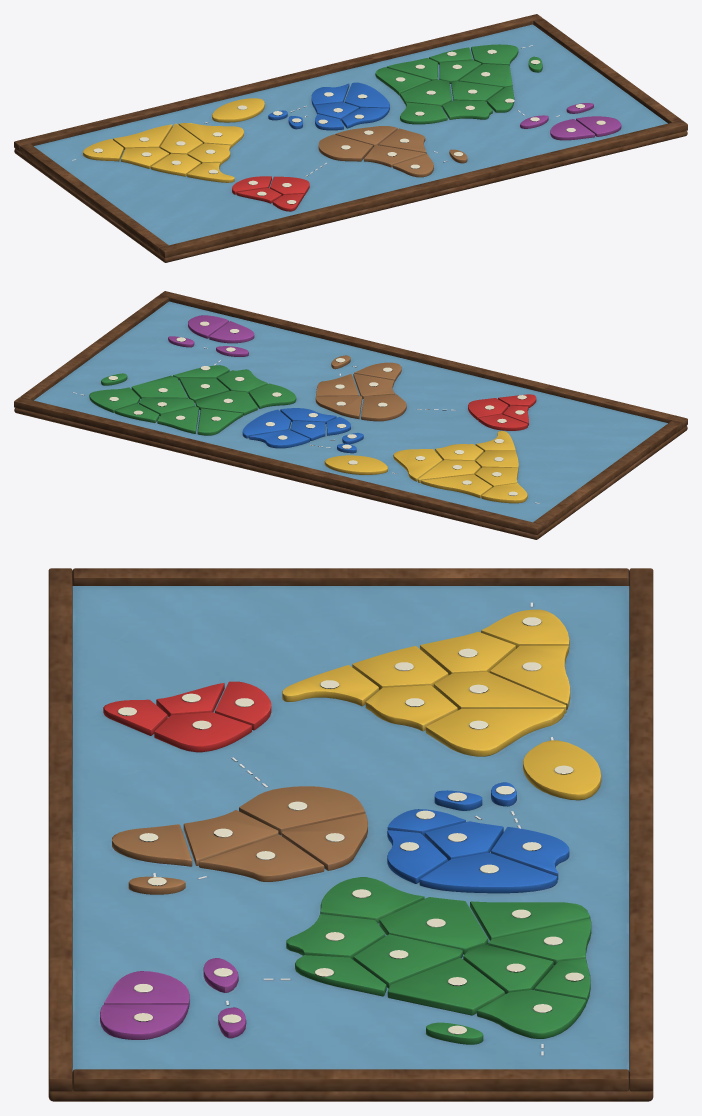
The model's file is risk-map.glb.
3 renders of one model, top to bottom at view 1: azimuth 30°, elevation 25°; view 2: azimuth 150°, elevation 25°; view 3: azimuth 270°, elevation 25°, orthographic. The views are drawn at different scales.
Parts seen in each view (by area): view 1: Ocean, FrameRail_S, FrameRail_N, Board, FrameRail_W, FrameRail_E, Territory_NorthAfrica, Territory_Afghanistan, Territory_Quebec, Territory_Greenland, Territory_Mongolia, Territory_Kamchatka (+29 smaller); view 2: Ocean, FrameRail_N, FrameRail_S, Board, FrameRail_W, FrameRail_E, Territory_NorthAfrica, Territory_Afghanistan, Territory_Quebec, Territory_Greenland, Territory_NorthwestTerritory, Territory_Mongolia (+27 smaller); view 3: Ocean, FrameRail_N, FrameRail_S, FrameRail_E, FrameRail_W, Board, Territory_Quebec, Territory_Mongolia, Territory_Ukraine, Territory_NorthAfrica, Territory_Afghanistan, Territory_Kamchatka (+34 smaller).
Boxes of the visible parts, box(x1,y1,x2,y2) form: Ocean: box(34, 24, 667, 245); FrameRail_S: box(159, 120, 687, 257); FrameRail_N: box(14, 14, 542, 151); Board: box(14, 131, 687, 262); FrameRail_W: box(20, 143, 168, 253); FrameRail_E: box(533, 18, 681, 123); Territory_NorthAfrica: box(318, 134, 372, 161); Territory_Afghanistan: box(400, 79, 451, 107); Territory_Quebec: box(178, 123, 243, 147); Territory_Greenland: box(212, 98, 264, 122); Territory_Mongolia: box(459, 64, 512, 88); Territory_Kamchatka: box(471, 44, 518, 65); Ocean: box(34, 301, 667, 522); FrameRail_N: box(14, 397, 542, 534); FrameRail_S: box(159, 291, 687, 428); Board: box(14, 408, 687, 539); FrameRail_W: box(533, 420, 681, 530); FrameRail_E: box(20, 295, 168, 400); Territory_NorthAfrica: box(361, 394, 406, 421); Territory_Afghanistan: box(195, 390, 257, 415); Territory_Quebec: box(393, 448, 442, 481); Territory_Greenland: box(324, 455, 387, 474); Territory_NorthwestTerritory: box(421, 474, 492, 497); Territory_Mongolia: box(131, 375, 187, 398); Ocean: box(72, 586, 629, 1071); FrameRail_N: box(629, 568, 653, 1091); FrameRail_S: box(48, 568, 72, 1091); FrameRail_E: box(72, 1069, 629, 1091); FrameRail_W: box(72, 568, 629, 585); Board: box(48, 1089, 653, 1101); Territory_Quebec: box(425, 709, 564, 756); Territory_Mongolia: box(387, 958, 504, 1015); Territory_Ukraine: box(419, 852, 557, 893); Territory_NorthAfrica: box(239, 786, 365, 835); Territory_Afghanistan: box(379, 897, 488, 954); Territory_Kamchatka: box(477, 990, 586, 1038).
Bounding box in the file's own units: 2 × 0.045 × 1.
1 material, 1 textured.
